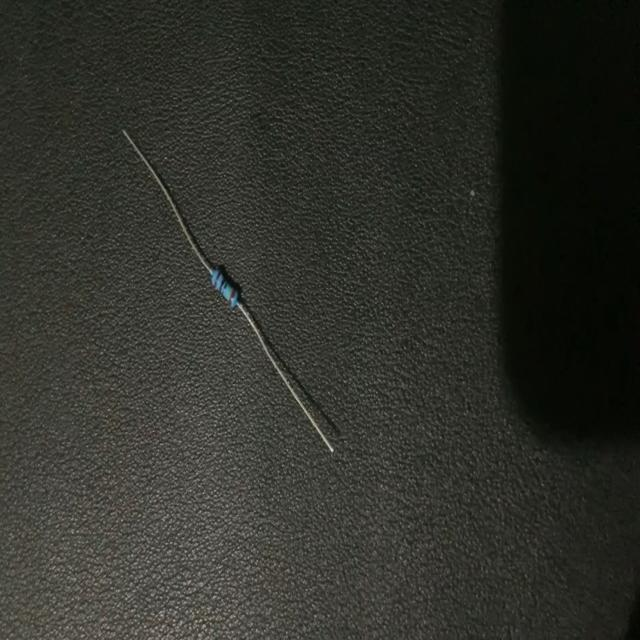resistor: (123, 130, 334, 457)
